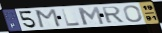5: (18, 10, 38, 29)
L: (60, 7, 82, 27)
M: (76, 6, 106, 26), (35, 8, 63, 29)
O: (123, 5, 144, 23)
R: (101, 6, 126, 24)
